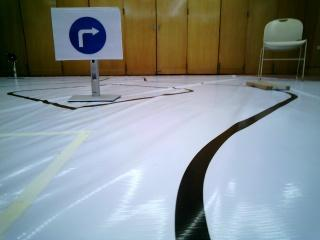right: (54, 9, 124, 62)
